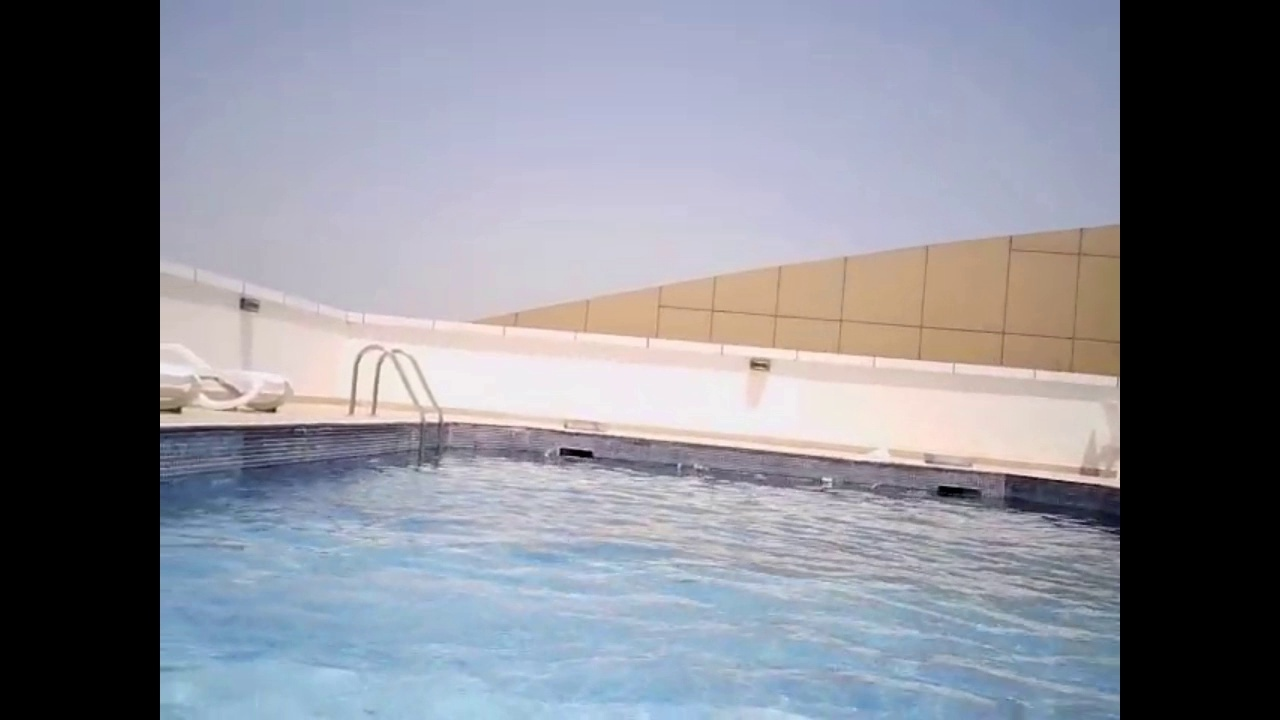debris: (686, 460, 713, 480), (816, 470, 835, 487), (541, 445, 556, 463), (867, 480, 882, 494), (671, 460, 683, 475)
